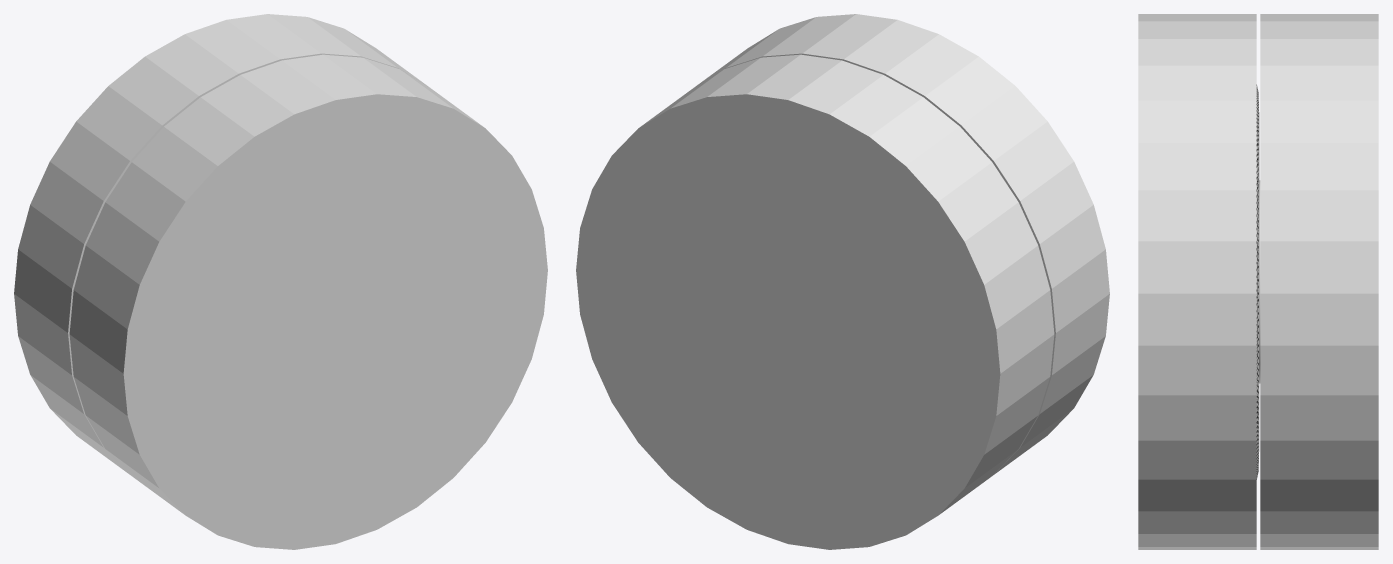
3 renders of one model, left to right at view 1: azimuth 30°, elevation 25°; view 2: azimuth 150°, elevation 25°; view 3: azimuth 270°, elevation 25°, orthographic. The views are drawn at different scales.
Visible parts, largest first — view 1: target_1, target_2; view 2: target_2, target_1; view 3: target_1, target_2, mics, mshi.
Boxes of the visible parts, bbox=[...] form: target_1: bbox=[69, 54, 547, 549]; target_2: bbox=[14, 14, 429, 474]; target_2: bbox=[576, 54, 1054, 549]; target_1: bbox=[694, 14, 1109, 474]; target_1: bbox=[1138, 14, 1256, 549]; target_2: bbox=[1260, 14, 1378, 549]; mics: bbox=[1256, 84, 1259, 479]; mshi: bbox=[1259, 180, 1260, 383].
Size of the model in its own units: 1.82 by 1.82 by 0.8162.
12 materials, 4 textured.
